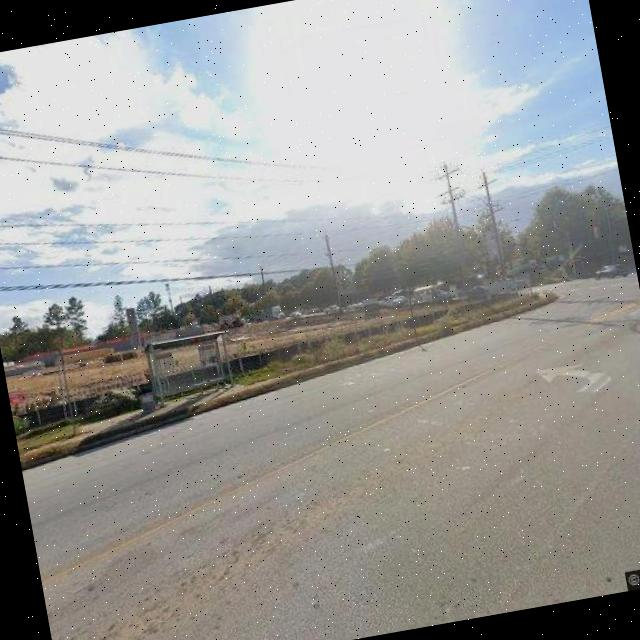seating: (194, 376, 227, 396)
shelter: (143, 328, 240, 407)
trash_can: (138, 392, 156, 412)
